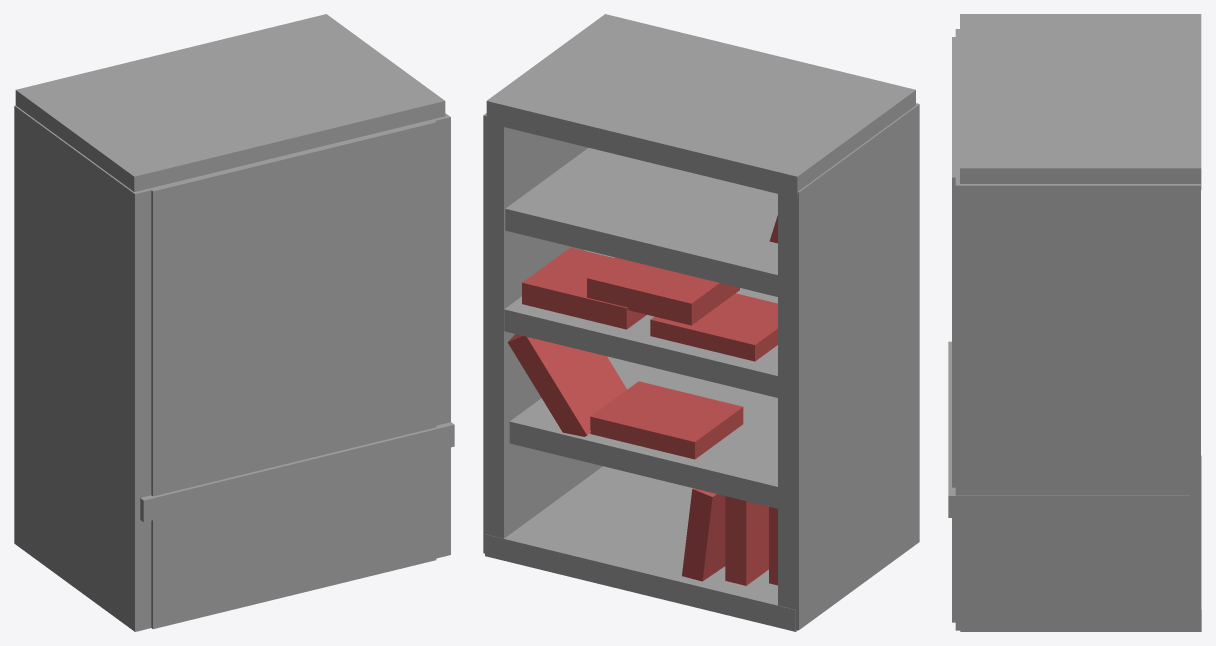
The model's file is Estante de libros FBX.fbx.
The picture shows the model from 3 angles, left to right: view 1: azimuth 30°, elevation 25°; view 2: azimuth 150°, elevation 25°; view 3: azimuth 270°, elevation 25°; orthographic projection.
Parts seen in each view (by area): view 1: pCube1, pCube3, pCube4, pCube6, pCube2; view 2: pCube3, pCube4, pCube5, pCube2, pCube8, pCube6, pCube7, pCube15, pCube16, pCube11, pCube17, pCube9 (+3 smaller); view 3: pCube2, pCube4, pCube6, pCube5, pCube1, pCube8.
Boxes of the visible parts, x1,y1,x2,y2 form: pCube1: [151, 120, 436, 629]; pCube3: [14, 105, 155, 631]; pCube4: [15, 14, 445, 191]; pCube6: [140, 422, 454, 522]; pCube2: [428, 113, 450, 558]; pCube3: [778, 103, 919, 630]; pCube4: [486, 14, 915, 198]; pCube5: [505, 148, 777, 296]; pCube2: [483, 113, 602, 553]; pCube8: [485, 466, 797, 631]; pCube6: [509, 356, 777, 508]; pCube7: [504, 250, 777, 397]; pCube15: [590, 381, 743, 459]; pCube16: [507, 334, 626, 436]; pCube11: [587, 257, 739, 325]; pCube17: [650, 293, 777, 361]; pCube9: [522, 247, 646, 329]; pCube2: [955, 175, 1200, 630]; pCube4: [960, 14, 1201, 189]; pCube6: [948, 341, 1189, 517]; pCube5: [957, 276, 1198, 298]; pCube1: [952, 37, 959, 622]; pCube8: [960, 455, 1201, 631].
Bounding box in the file's own units: 7.56 × 10.4 × 5.15.
